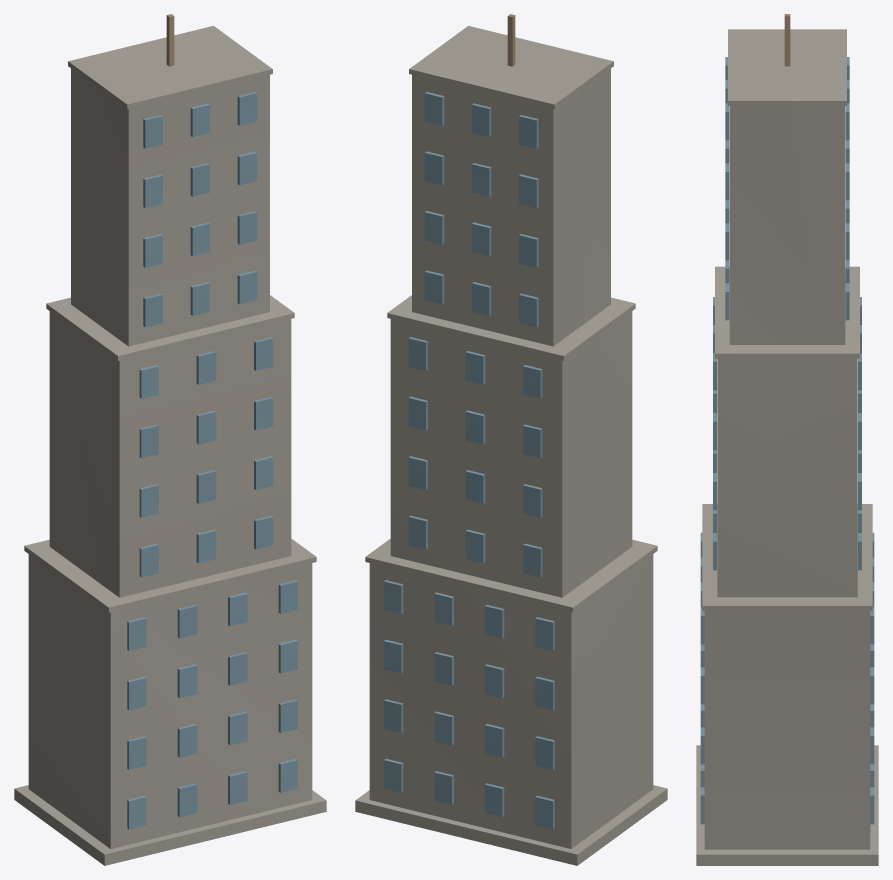
The model's file is tower-07.glb.
3 renders of one model, left to right at view 1: azimuth 30°, elevation 25°; view 2: azimuth 150°, elevation 25°; view 3: azimuth 270°, elevation 25°, orthographic.
Visible parts, largest first — view 1: world; view 2: world; view 3: world.
Part boxes in pixels (bbox=[...]): world: bbox=[14, 14, 326, 865]; world: bbox=[355, 14, 667, 865]; world: bbox=[696, 14, 878, 865].
Bounding box in the file's own units: 1.64 × 5.57 × 1.15.
